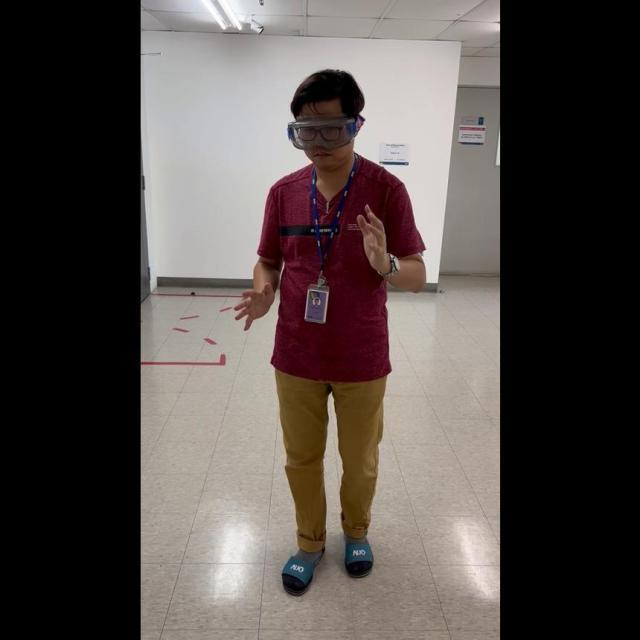bare_hand: (353, 199, 393, 279), (229, 279, 274, 330)
